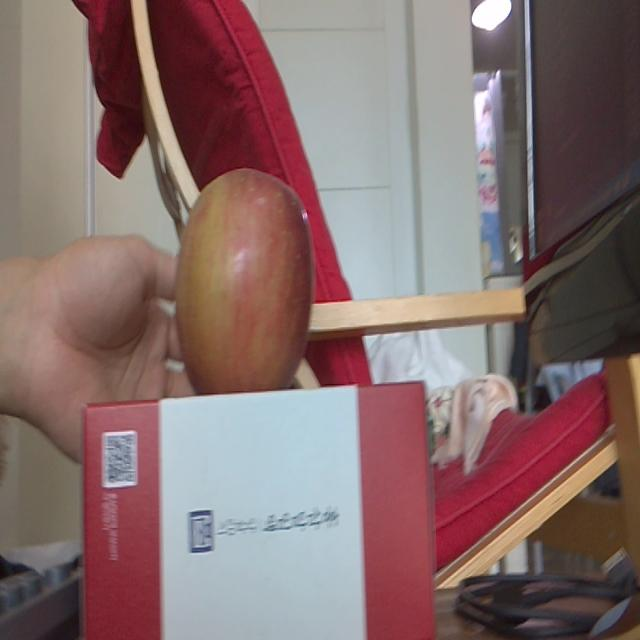apple: (171, 166, 317, 393)
